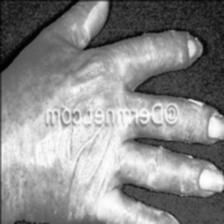Non-Cancerous Skin Condition: (180, 103, 224, 156), (158, 164, 220, 194), (154, 26, 202, 61), (70, 0, 104, 42), (114, 211, 174, 224)
